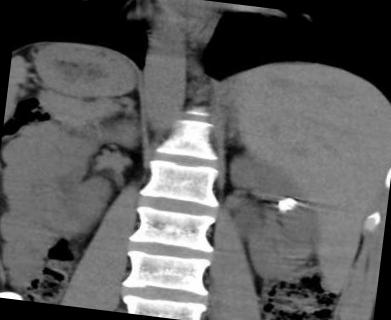Tas_Var: (276, 200, 292, 212), (284, 198, 297, 206)
